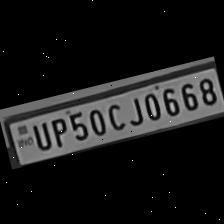0: (136, 86, 162, 122), (82, 103, 108, 136)
5: (62, 106, 90, 142)
6: (174, 76, 200, 113), (156, 82, 182, 118)
8: (192, 72, 219, 108)
C: (100, 96, 127, 131)
J: (119, 91, 145, 127)
P: (43, 112, 70, 148)
U: (26, 117, 52, 152)
